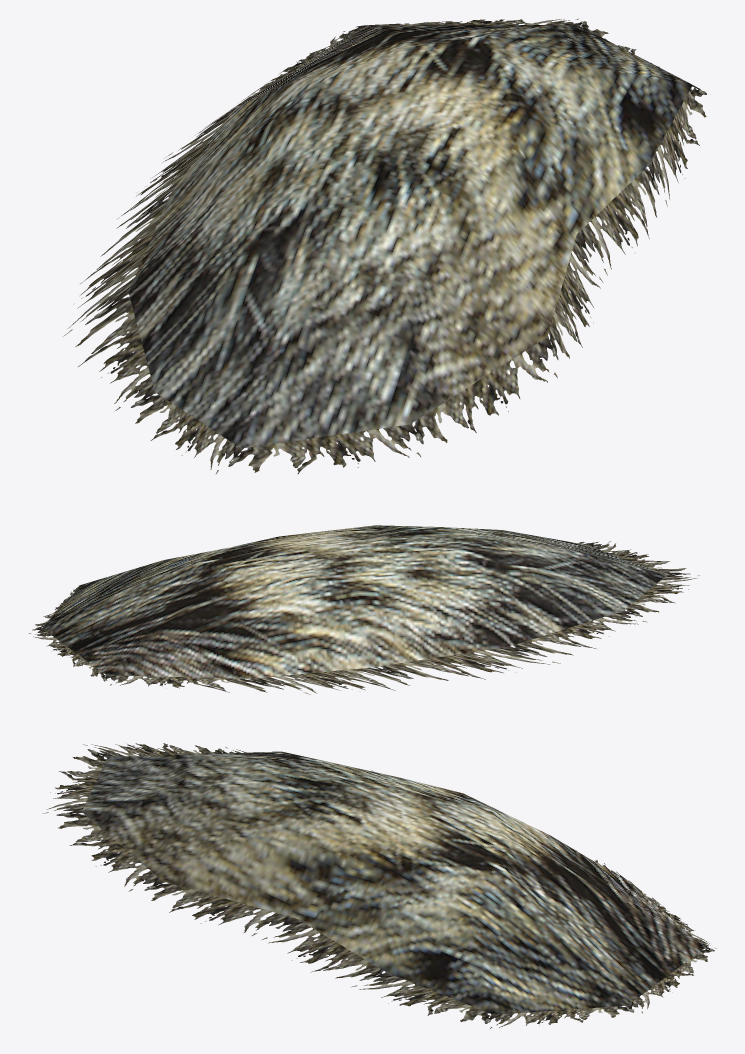
Rendered from ScrapofFur.fbx.
3 renders of one model, top to bottom at view 1: azimuth 30°, elevation 25°; view 2: azimuth 150°, elevation 25°; view 3: azimuth 270°, elevation 25°, orthographic. The views are drawn at different scales.
Parts seen in each view (by area): view 1: ScrapofFur; view 2: ScrapofFur; view 3: ScrapofFur.
Part boxes in pixels (x1,y1,x2,y2): ScrapofFur: [63, 18, 706, 474]; ScrapofFur: [28, 525, 699, 694]; ScrapofFur: [42, 743, 716, 1028].
Bounding box in the file's own units: 0.8257 × 0.1386 × 0.8429.
Materials: 1 (1 with a texture image).
